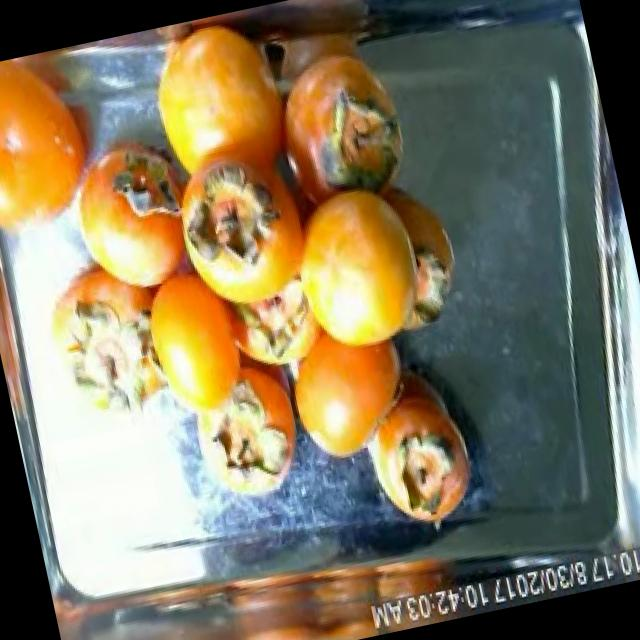Fruit: (262, 143, 482, 380), (272, 288, 436, 482), (356, 397, 494, 538)
